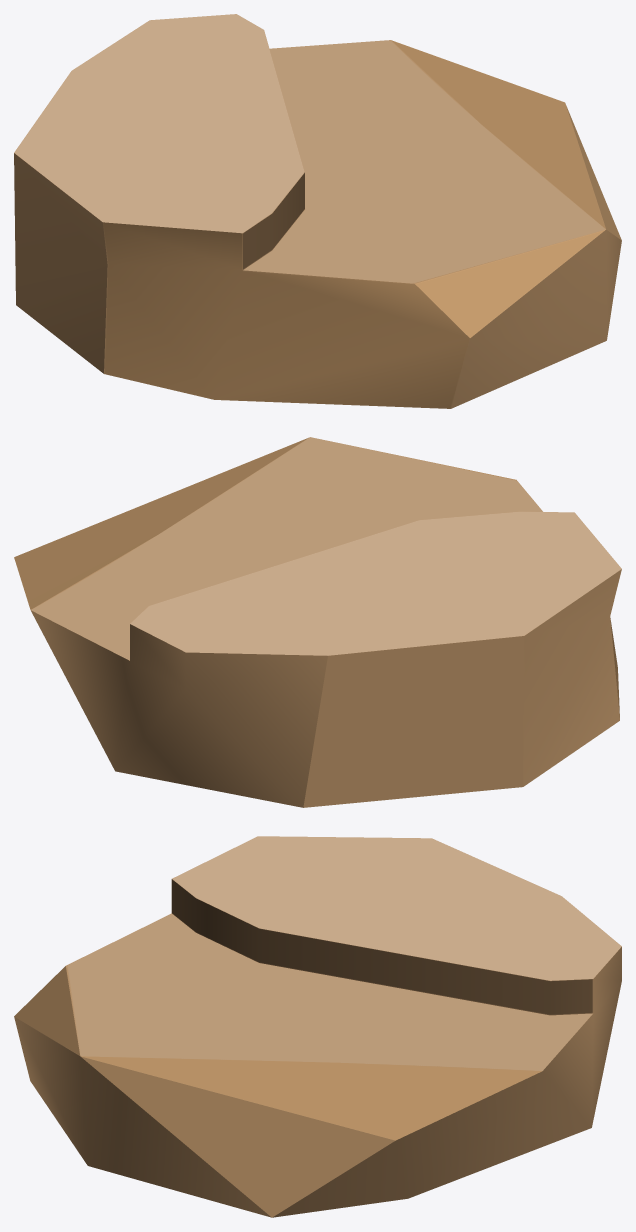
File: montaña2.fbx
3 views of the same model, one above another, from view 1: azimuth 30°, elevation 25°; view 2: azimuth 150°, elevation 25°; view 3: azimuth 270°, elevation 25° (orthographic). The views are drawn at different scales.
Parts seen in each view (by area): view 1: montaña2:Mesh; view 2: montaña2:Mesh; view 3: montaña2:Mesh.
Part boxes in pixels (box(x1,y1,x2,y2)): montaña2:Mesh: box(14, 14, 621, 408); montaña2:Mesh: box(14, 437, 621, 807); montaña2:Mesh: box(14, 836, 621, 1217).
Bounding box in the file's own units: 183 × 49.73 × 193.
Materials: 1 (1 with a texture image).
